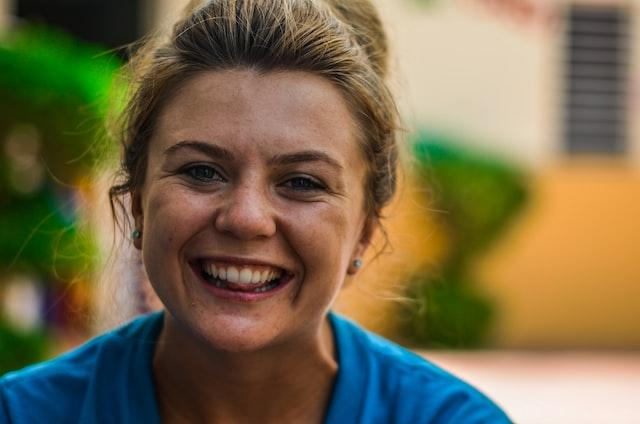crows_feet: (321, 184, 347, 206), (156, 163, 180, 186)
gummy_smile: (175, 223, 212, 249), (274, 224, 302, 258)
sad_smile: (173, 262, 197, 298), (288, 276, 308, 308)
